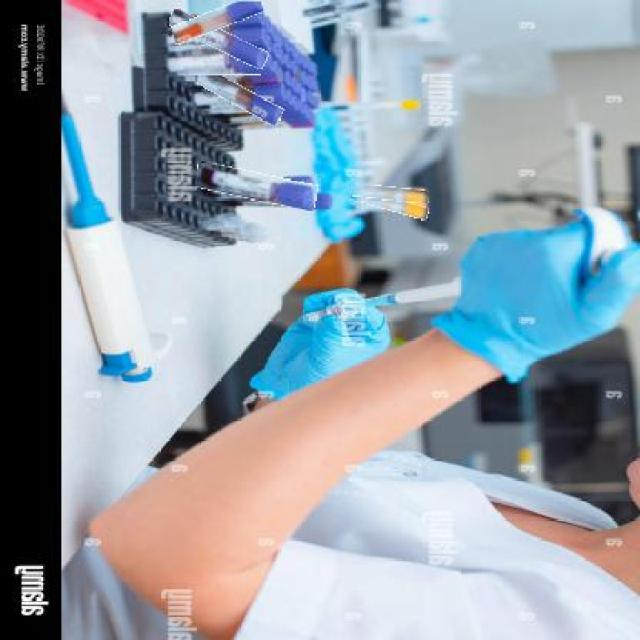Experimental-tube: (193, 168, 316, 206), (165, 18, 268, 58), (191, 76, 284, 116), (169, 2, 263, 36), (165, 47, 269, 75), (347, 192, 427, 214), (347, 184, 427, 201)
